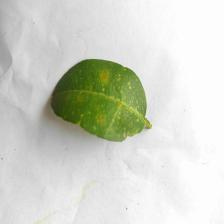greening: (81, 61, 135, 128)
